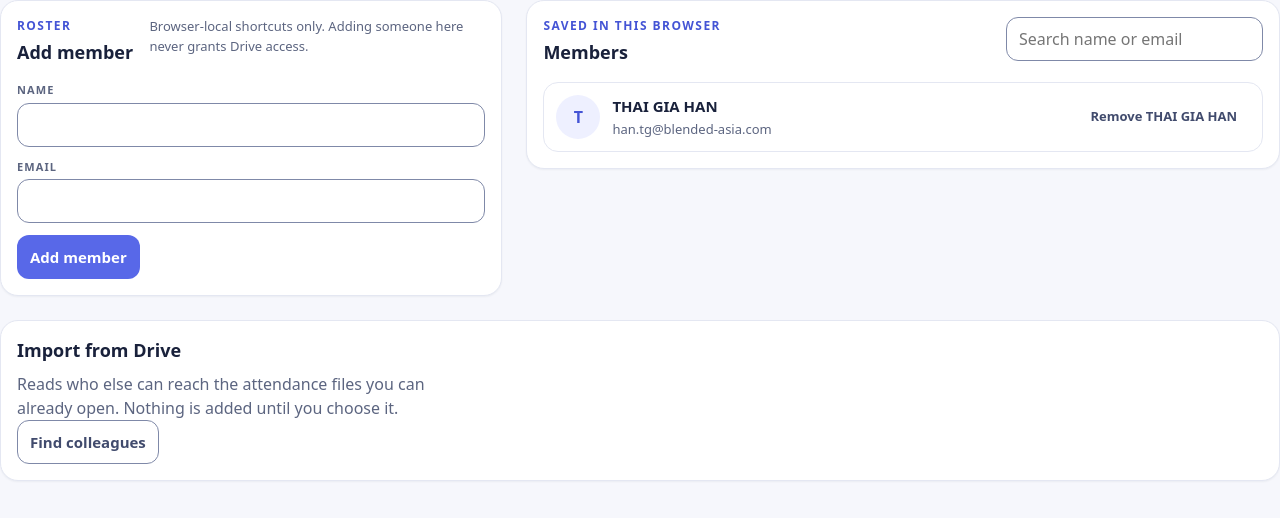
it: MemberRoster › reports a failed import without emptying the roster
Expected: the heading "THAI GIA HAN" is shown, [612,96,718,116]
Step 1. Click the button "Find colleagues" → (88, 442), box [17,420,159,464]
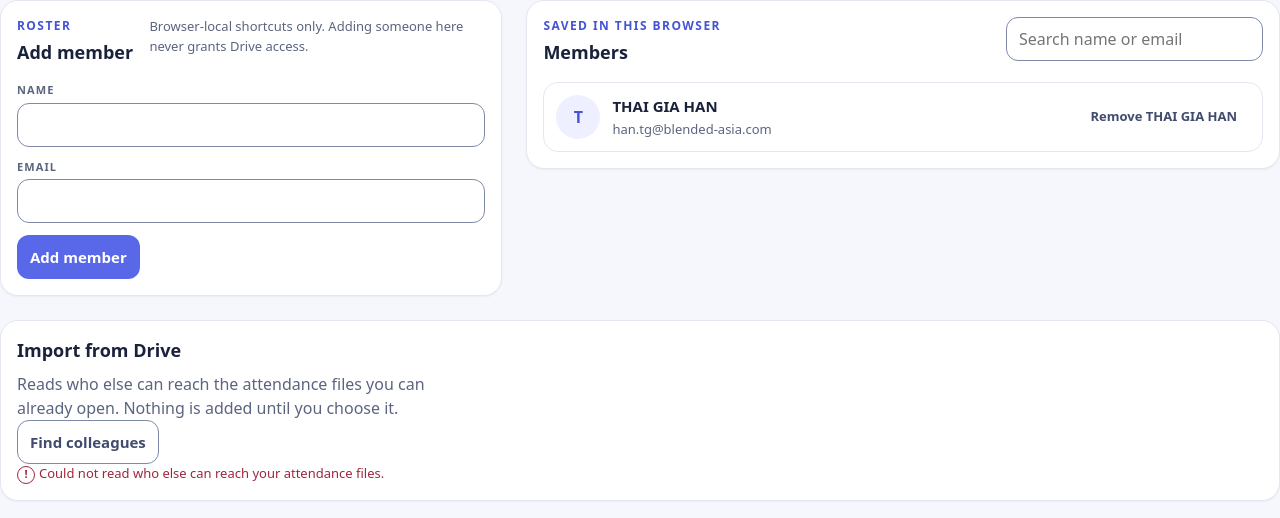
Expected: the heading "THAI GIA HAN" is shown, [612,96,718,116]
Result: the text "Could not read who else can reach your attendance files." is shown at [39,464,384,482]
